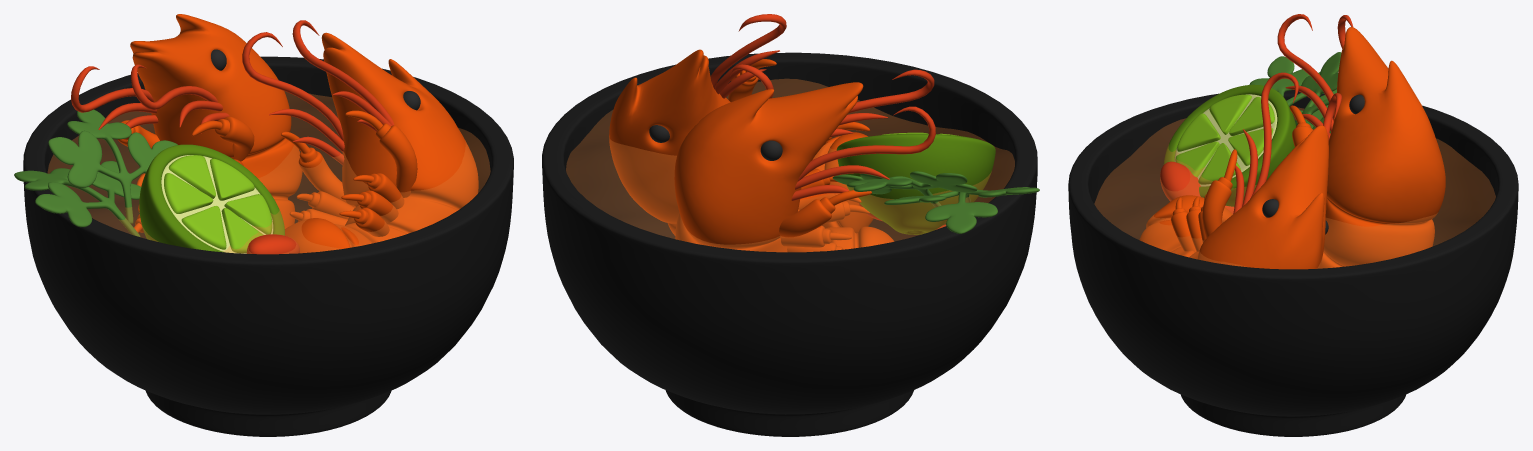
The picture shows the model from 3 angles, left to right: view 1: azimuth 30°, elevation 25°; view 2: azimuth 150°, elevation 25°; view 3: azimuth 270°, elevation 25°; orthographic projection. The views are drawn at different scales.
Parts seen in each view (by area): view 1: Circle.036, Plane.037, Circle.046, Plane.031, Circle.045, Plane.040, Cube.030, Sphere.097, Plane.039, Cube.025, Circle.043, Sphere.098 (+6 smaller); view 2: Circle.036, Plane.031, Circle.046, Plane.037, Sphere.097, Cube.025, Plane.039, Cube.030, Plane.040, Circle.034, Circle.028, Circle.030 (+1 smaller); view 3: Circle.036, Plane.031, Circle.046, Plane.037, Circle.045, Sphere.097, Cube.030, Cube.025, Plane.038, Plane.039, Circle.043, Plane.040 (+3 smaller).
Boxes of the visible parts, left/top/right/bottom form: Circle.036: left=23, top=56, right=513, bottom=436; Plane.037: left=285, top=32, right=478, bottom=253; Circle.046: left=48, top=91, right=490, bottom=253; Plane.031: left=130, top=14, right=302, bottom=228; Circle.045: left=164, top=155, right=272, bottom=253; Plane.040: left=48, top=109, right=177, bottom=224; Cube.030: left=242, top=20, right=394, bottom=165; Sphere.097: left=139, top=144, right=284, bottom=252; Plane.039: left=14, top=161, right=141, bottom=237; Cube.025: left=71, top=64, right=229, bottom=133; Circle.043: left=298, top=125, right=417, bottom=207; Sphere.098: left=161, top=155, right=273, bottom=253; Circle.036: left=542, top=52, right=1037, bottom=436; Plane.031: left=674, top=82, right=894, bottom=252; Circle.046: left=566, top=79, right=1014, bottom=251; Plane.037: left=609, top=49, right=873, bottom=235; Sphere.097: left=836, top=133, right=995, bottom=234; Cube.025: left=791, top=69, right=935, bottom=200; Plane.039: left=884, top=187, right=1039, bottom=233; Cube.030: left=710, top=14, right=786, bottom=98; Plane.040: left=832, top=171, right=977, bottom=207; Circle.034: left=779, top=140, right=831, bottom=237; Circle.028: left=780, top=169, right=824, bottom=247; Circle.030: left=787, top=193, right=836, bottom=252; Circle.036: left=1068, top=90, right=1518, bottom=436; Plane.031: left=1320, top=27, right=1445, bottom=268; Circle.046: left=1094, top=108, right=1495, bottom=268; Plane.037: left=1139, top=125, right=1328, bottom=269; Circle.045: left=1175, top=94, right=1274, bottom=184; Sphere.097: left=1163, top=84, right=1295, bottom=206; Cube.030: left=1233, top=72, right=1341, bottom=213; Cube.025: left=1277, top=14, right=1353, bottom=140; Plane.038: left=1160, top=161, right=1234, bottom=213; Plane.039: left=1249, top=56, right=1336, bottom=128; Circle.043: left=1202, top=180, right=1231, bottom=238; Plane.040: left=1295, top=52, right=1341, bottom=133.
Size of the model in its own units: 3.21 by 2.43 by 3.02.
